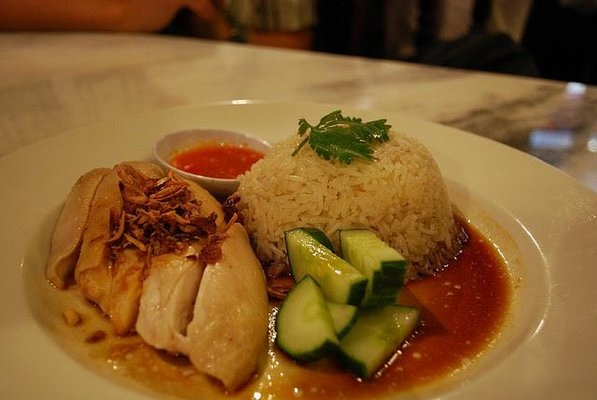soup: (231, 116, 469, 284)
sushi: (152, 128, 273, 201)
